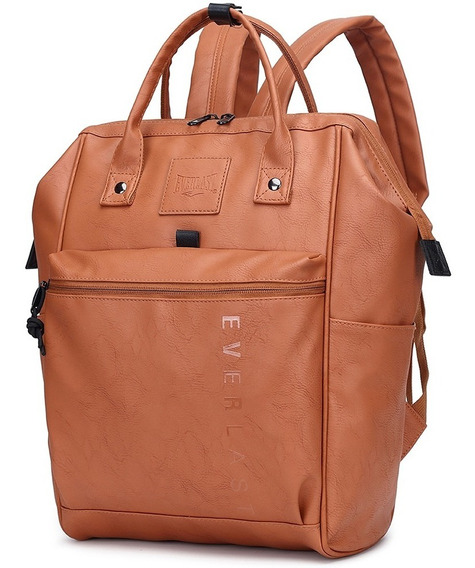cartera: (29, 2, 431, 558)
